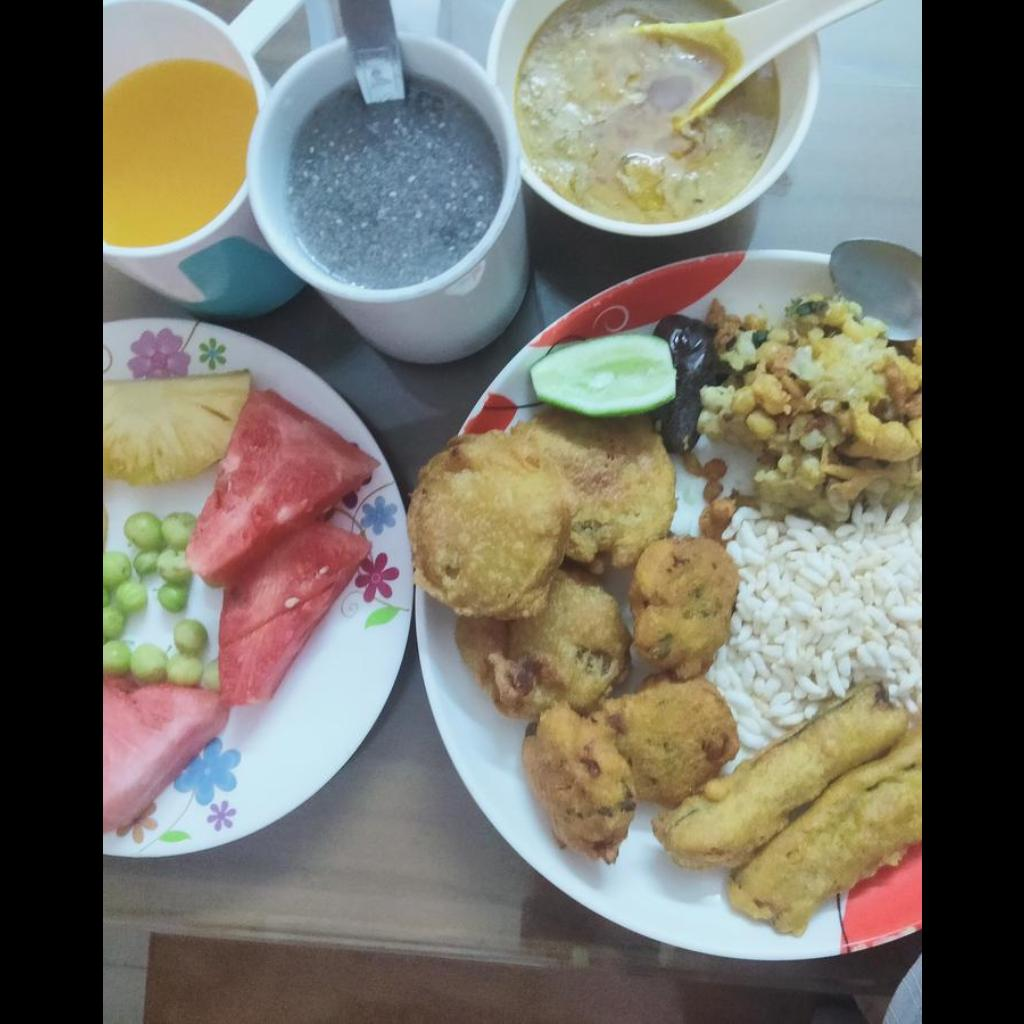beguni: (648, 688, 920, 939)
chop-alu: (412, 421, 672, 718), (532, 540, 737, 858)
daal: (513, 0, 779, 223), (696, 297, 920, 523)
dates: (653, 315, 726, 454)
juice: (288, 76, 500, 284), (102, 64, 257, 248)
lemon: (529, 333, 674, 418)
pineapple: (102, 375, 250, 485)
puffed-rice: (729, 524, 920, 725)
watermelon: (106, 385, 377, 830)
